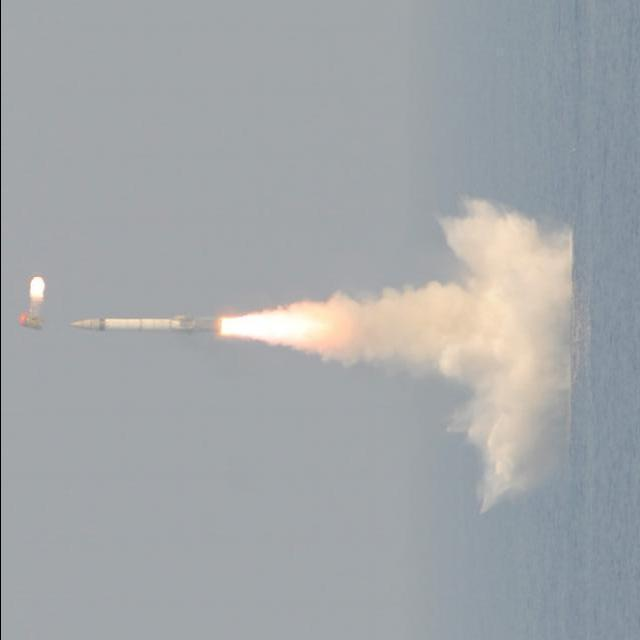missile: (65, 312, 225, 338)
